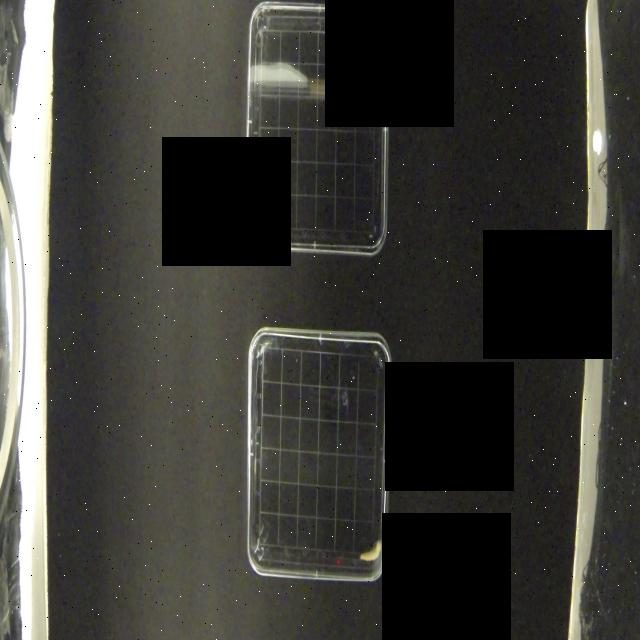larva: (266, 147, 278, 210), (361, 536, 383, 562)
